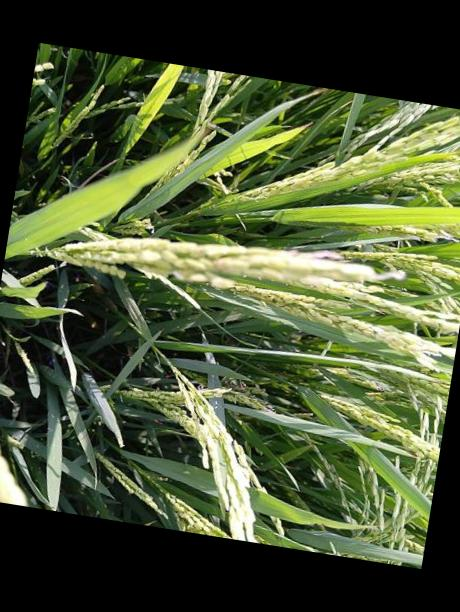Panicle Blight: (41, 233, 375, 320)
